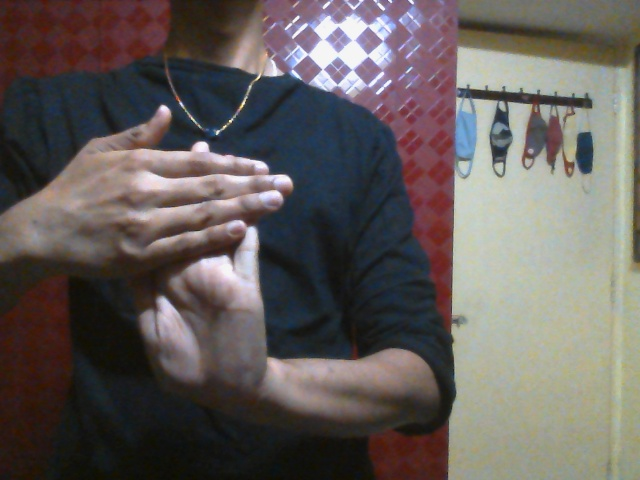H: (50, 104, 292, 397)
